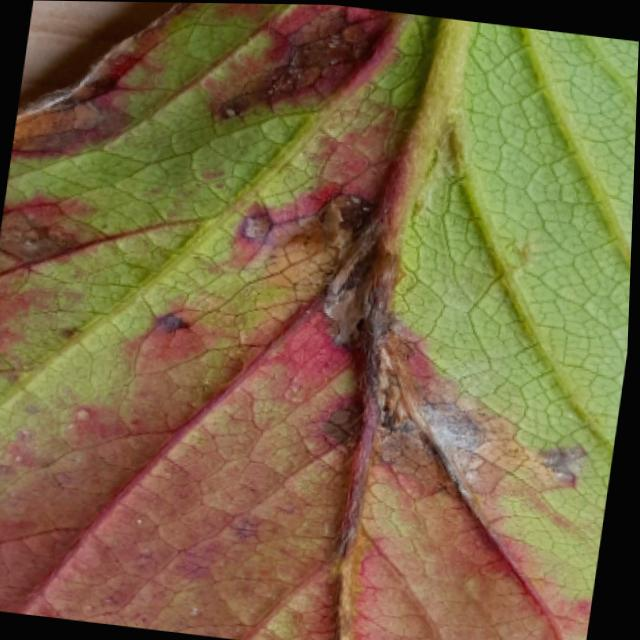Angular Leafspot: (0, 2, 616, 640)
